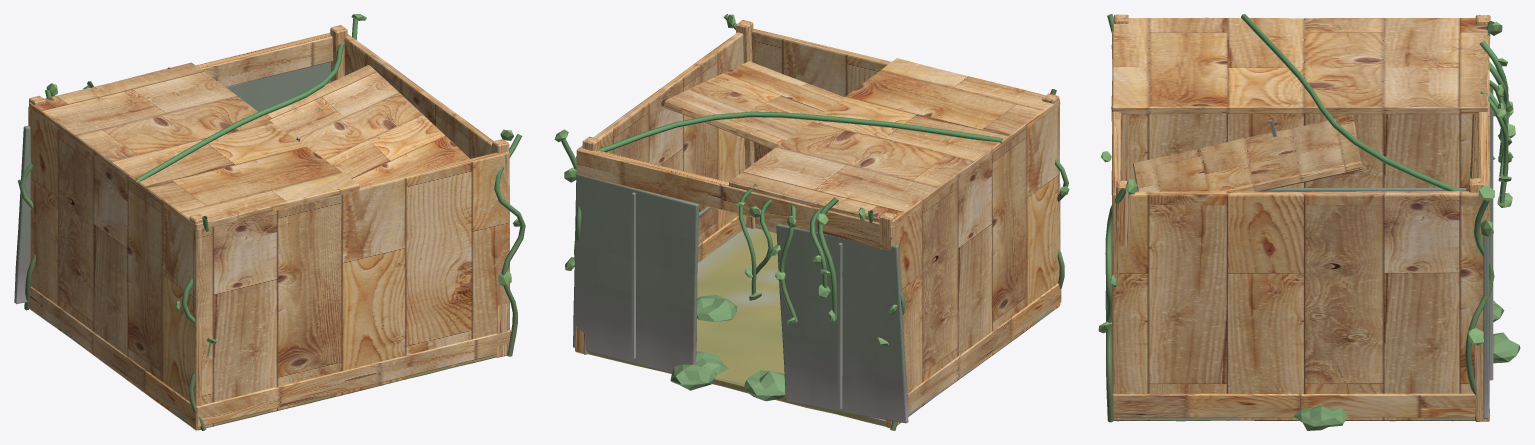
The model's file is elevadorQuebrado.glb.
3 views of the same model, side by side, from view 1: azimuth 30°, elevation 25°; view 2: azimuth 150°, elevation 25°; view 3: azimuth 270°, elevation 25° (orthographic). The views are drawn at different scales.
Parts seen in each view (by area): view 1: Elevador_madeira, Elevador_verde, Elevador_metal, Elevador_piso; view 2: Elevador_madeira, Elevador_metal, Elevador_verde, Elevador_piso; view 3: Elevador_madeira, Elevador_verde, Elevador_metal, Elevador_piso.
Boxes of the visible parts, x1,y1,x2,y2 form: Elevador_madeira: (28,25,510,430); Elevador_verde: (17,14,525,430); Elevador_metal: (14,62,331,304); Elevador_piso: (38,312,495,424); Elevador_madeira: (575,20,1061,428); Elevador_metal: (573,149,908,423); Elevador_verde: (554,14,1069,430); Elevador_piso: (587,227,1053,426); Elevador_madeira: (1111,14,1490,421); Elevador_verde: (1098,14,1520,430); Elevador_metal: (1136,86,1493,418); Elevador_piso: (1114,417,1474,421).
Size of the model in its own units: 7.28 by 4.43 by 6.74.
6 materials, 1 textured.
